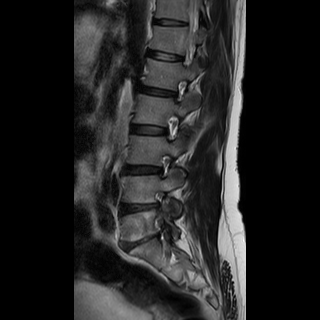RFS0: (152, 149, 176, 184), (160, 110, 183, 146), (168, 75, 192, 108)
